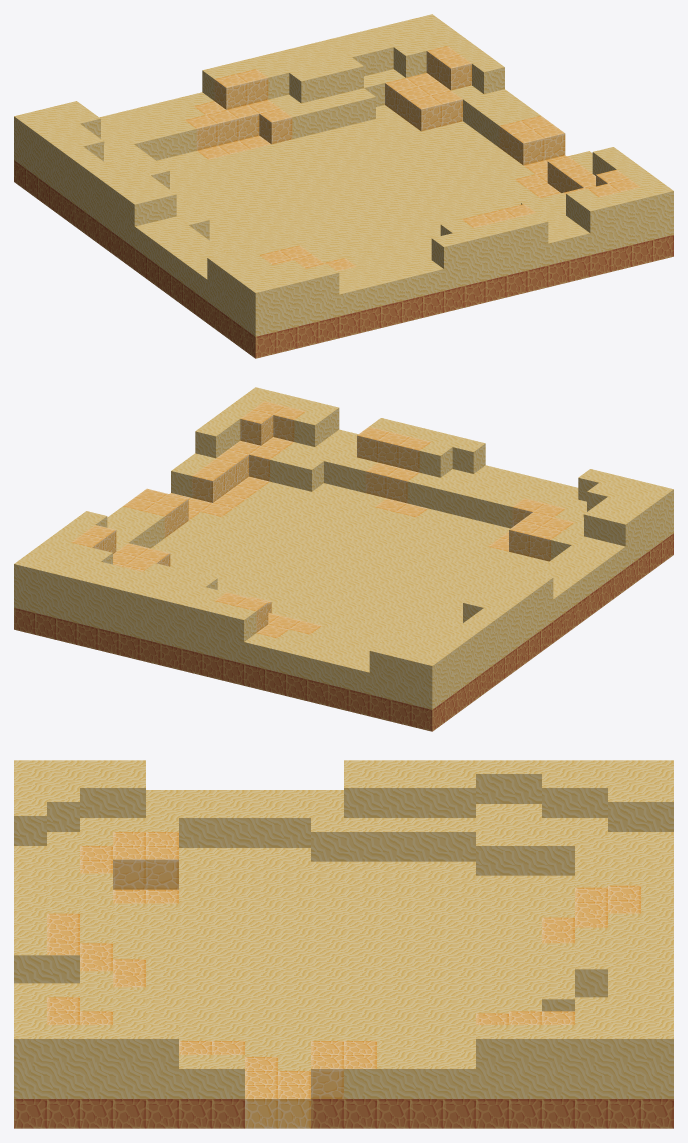
File: desert.fbx
The picture shows the model from 3 angles, top to bottom: view 1: azimuth 30°, elevation 25°; view 2: azimuth 150°, elevation 25°; view 3: azimuth 270°, elevation 25°; orthographic projection. The views are drawn at different scales.
Parts seen in each view (by area): view 1: desert; view 2: desert; view 3: desert.
Boxes of the visible parts, <box> form: desert: <box>14,14,673,358</box>; desert: <box>14,387,673,731</box>; desert: <box>14,760,673,1128</box>.
Bounding box in the file's own units: 20 × 20 × 3.
3 materials, 3 textured.
